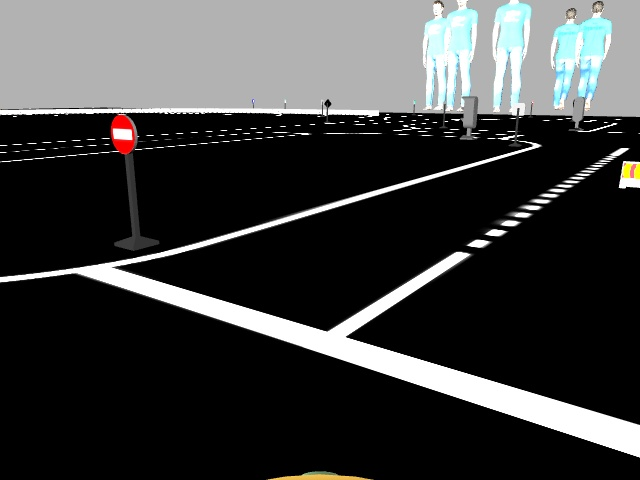NoEntry: (108, 113, 137, 153)
